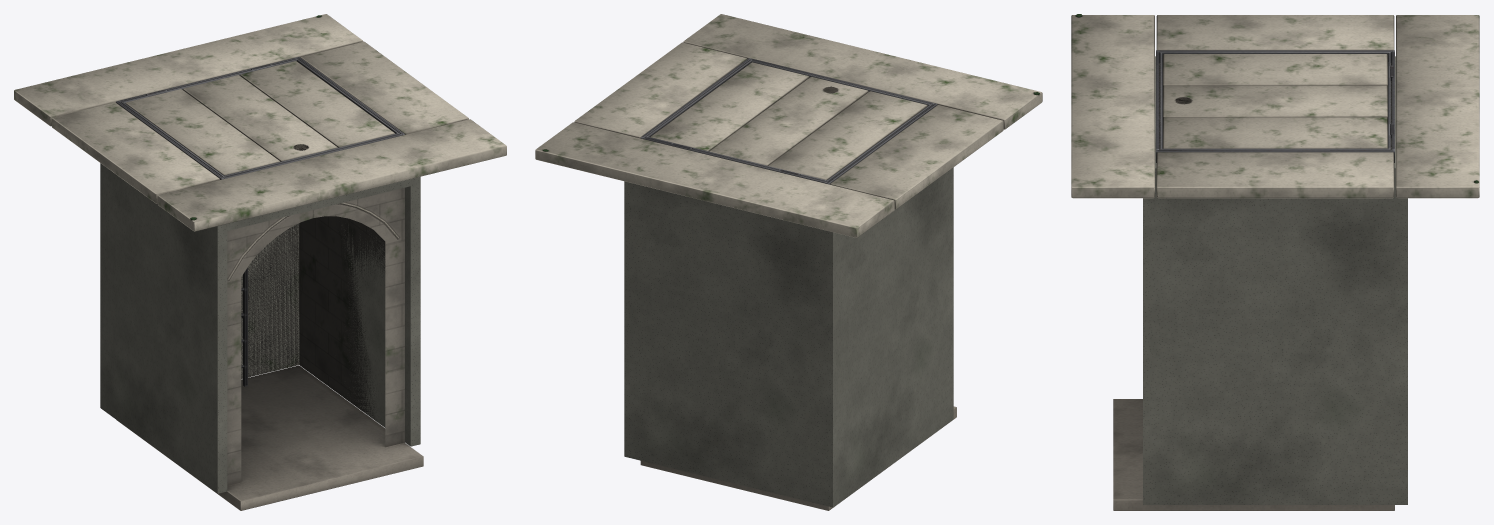
The model's file is TrapdoorLadder.fbx.
3 renders of one model, left to right at view 1: azimuth 30°, elevation 25°; view 2: azimuth 150°, elevation 25°; view 3: azimuth 270°, elevation 25°, orthographic. The views are drawn at different scales.
Visible parts, largest first — view 1: TrapdoorLadder_Main, TrapdoorLadder_Wall, TrapdoorLadder_Door0; view 2: TrapdoorLadder_Wall, TrapdoorLadder_Main, TrapdoorLadder_Door0; view 3: TrapdoorLadder_Wall, TrapdoorLadder_Main, TrapdoorLadder_Door0.
Boxes of the visible parts, <box> form: TrapdoorLadder_Main: <box>14,14,506,510</box>; TrapdoorLadder_Wall: <box>100,163,420,493</box>; TrapdoorLadder_Door0: <box>121,59,399,176</box>; TrapdoorLadder_Wall: <box>624,167,953,507</box>; TrapdoorLadder_Main: <box>535,14,1042,510</box>; TrapdoorLadder_Door0: <box>645,60,932,181</box>; TrapdoorLadder_Wall: <box>1143,56,1407,504</box>; TrapdoorLadder_Main: <box>1071,14,1479,510</box>; TrapdoorLadder_Door0: <box>1160,52,1393,149</box>.
Bounding box in the file's own units: 956 × 933 × 956.
